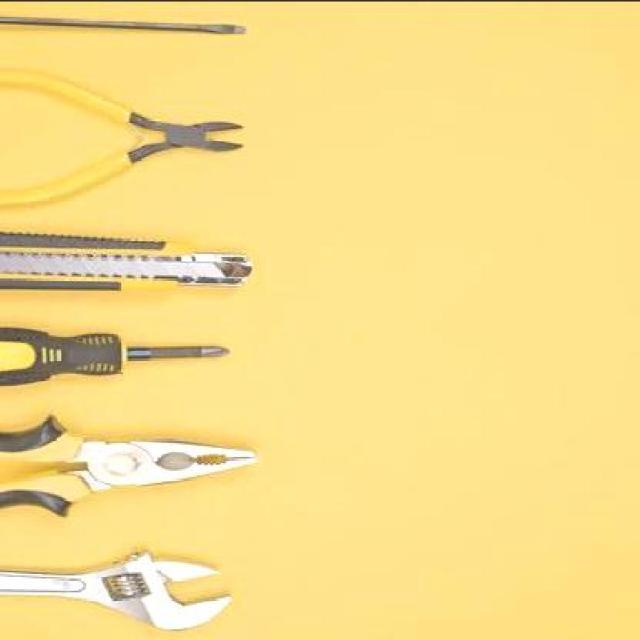pliers: (0, 61, 246, 214)
